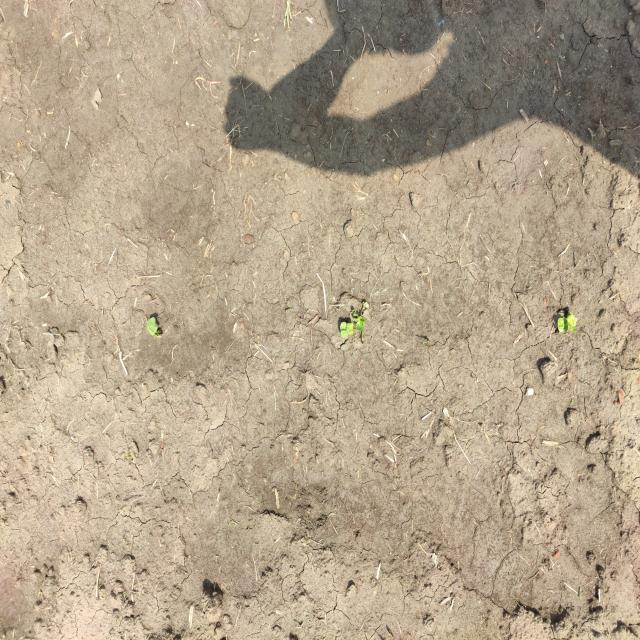seedling_s1: (146, 317, 156, 332), (356, 317, 365, 331), (340, 322, 347, 338), (567, 315, 577, 326), (149, 323, 158, 335), (558, 318, 565, 332), (568, 321, 576, 333), (347, 322, 354, 335), (562, 317, 568, 332), (353, 316, 364, 322)
